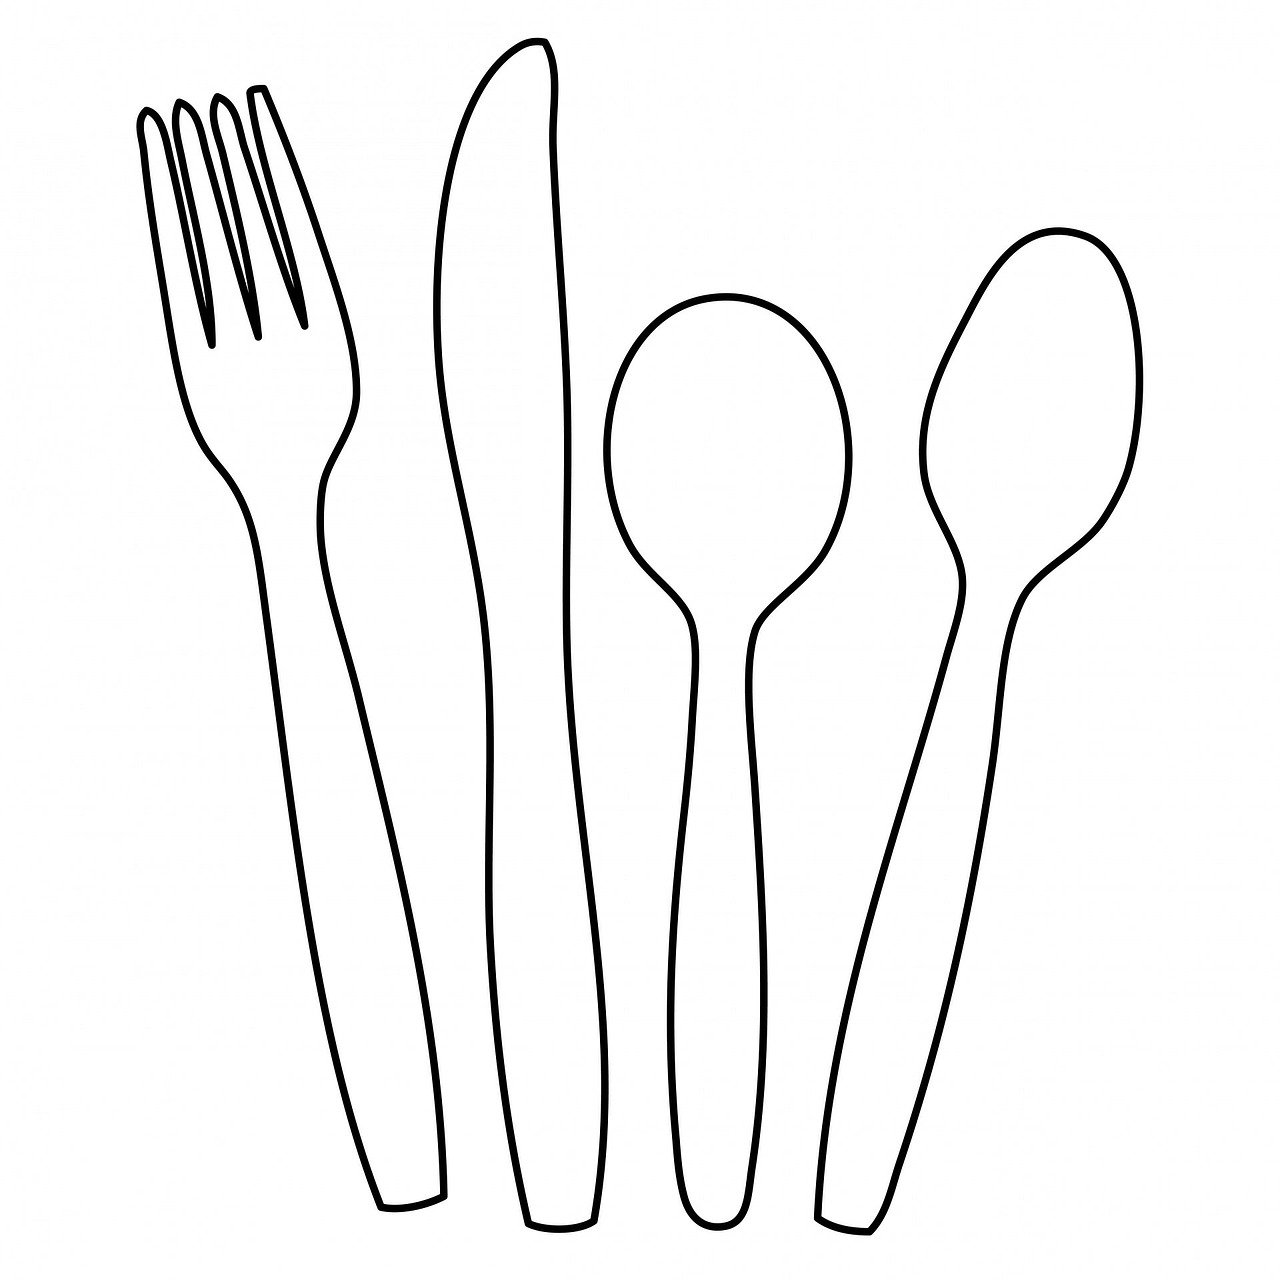knife: (395, 13, 617, 1232)
